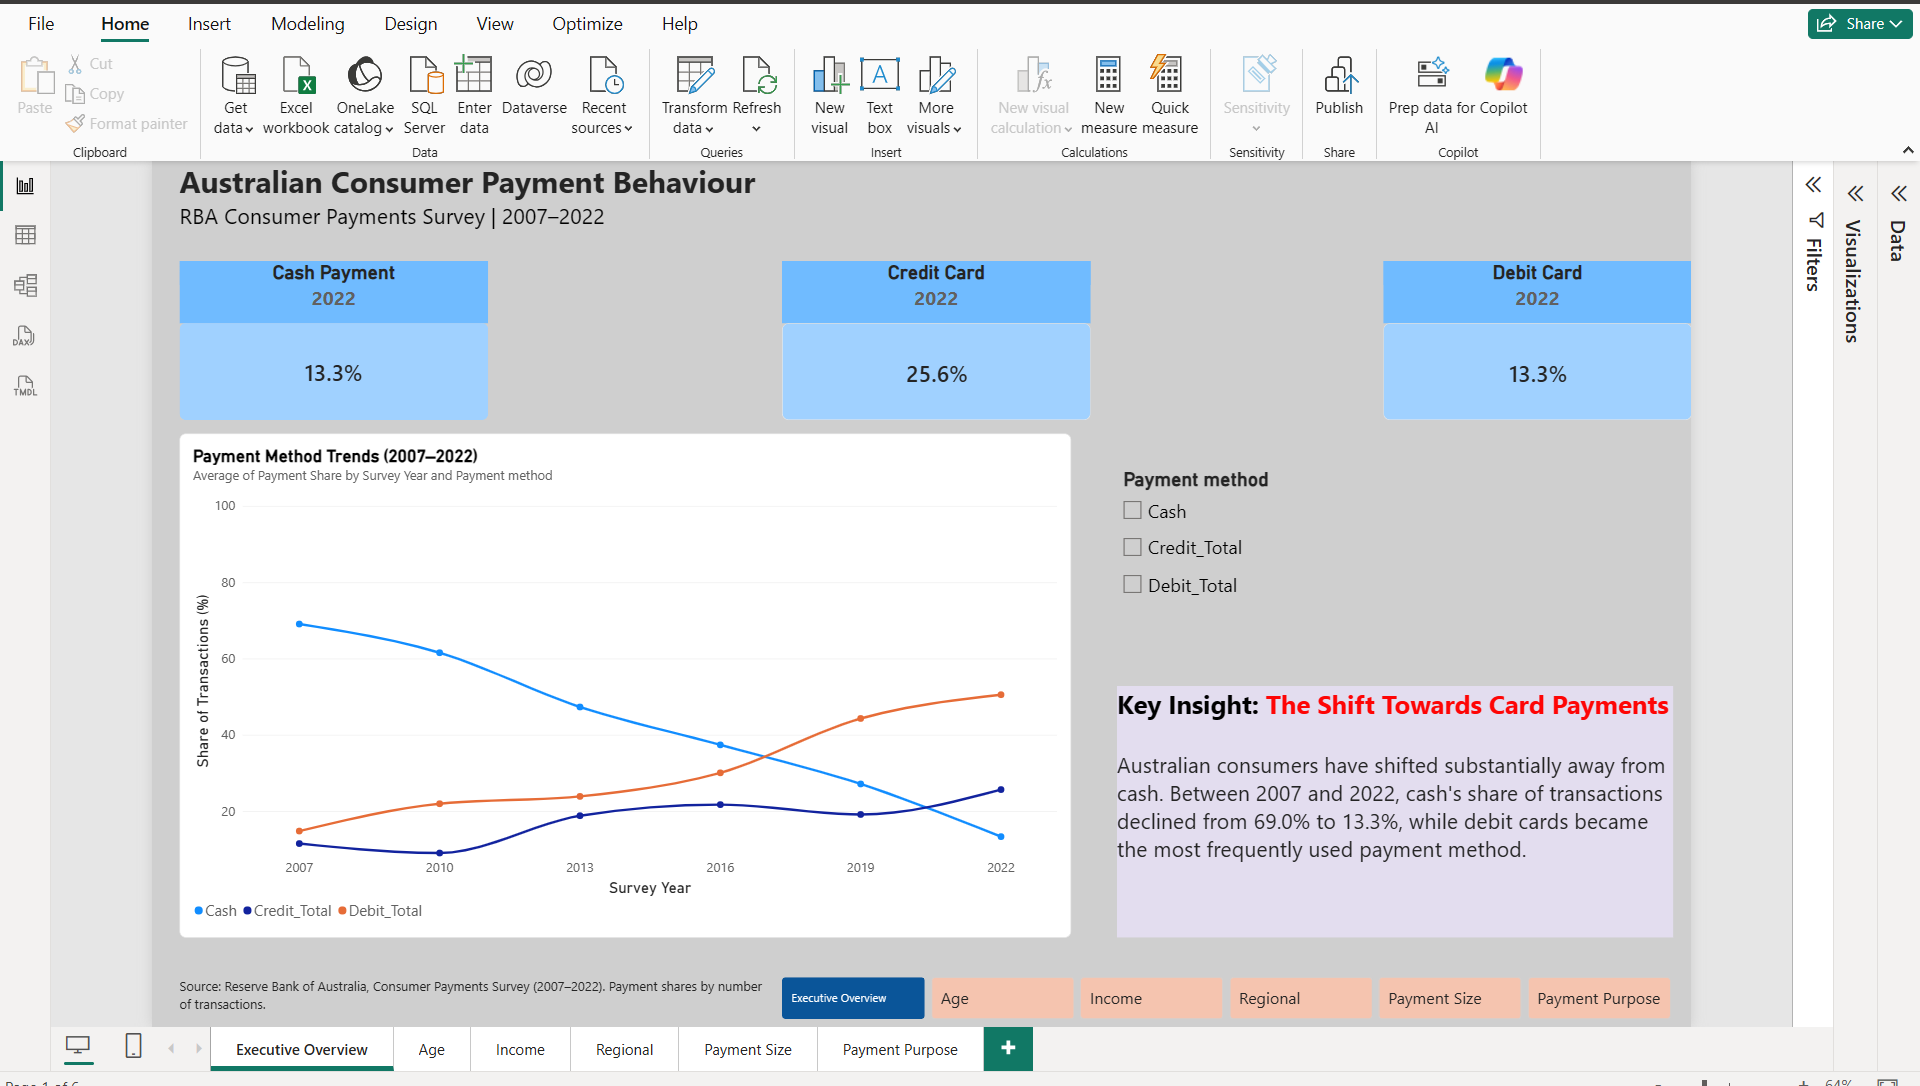

What the dashboard file says about the page in this screenshot:
{"tool":"powerbi","page":{"name":"Executive Overview","canvas":[1920,1080],"ordinal":0},"visuals":[{"type":"lineChart","title":"Payment Method Trends (2007–2022)","fields":{"Category":["All.Survey Year"],"Series":["All.Payment method"],"Y":["Avg(All.Payment Shape)"]},"box":[33.6,339.9,1111.7,628.8],"z":0},{"type":"cardVisual","title":"Credit Card","fields":{"Data":["All.CashCC Share 2022 Display"]},"box":[784.9,125.5,385.2,198.4],"z":2000},{"type":"cardVisual","title":"Cash Payment ","fields":{"Data":["All.Cash Share 2022 Display"]},"box":[33.6,125.5,385.2,198.4],"z":2500},{"type":"cardVisual","title":"Debit Card","fields":{"Data":["All.Debit Share 2022 Display"]},"box":[1534.8,125.5,385.2,198.4],"z":3000},{"type":"textbox","box":[33.6,0,1046.1,108],"z":4000},{"type":"textbox","box":[1203.5,654.7,693.7,313.3],"z":5000},{"type":"textbox","box":[34.1,1017.8,740.7,51.9],"z":6000},{"type":"pageNavigator","box":[784.9,1018.4,1111.7,52.5],"z":7000},{"type":"slicer","fields":{"Values":["All.Payment method"]},"box":[1203.5,383.5,693,192.6],"z":8000}]}

Visuals, with their boxes on the page's 1920x1080 design canvas (x1, y1, x2, y2). These are canvas units, not pixel positions in the 1920x1086 screenshot, which may show the page scaled, cropped or inside an application window:
"Payment Method Trends (2007–2022)" lineChart: BBox(34, 340, 1145, 969)
"Credit Card" cardVisual: BBox(785, 126, 1170, 324)
"Cash Payment " cardVisual: BBox(34, 126, 419, 324)
"Debit Card" cardVisual: BBox(1535, 126, 1920, 324)
textbox: BBox(34, 0, 1080, 108)
textbox: BBox(1204, 655, 1897, 968)
textbox: BBox(34, 1018, 775, 1070)
pageNavigator: BBox(785, 1018, 1897, 1071)
slicer - All.Payment method: BBox(1204, 384, 1896, 576)
